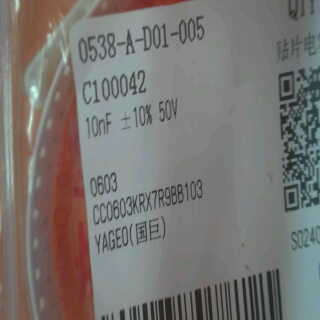10nF: (81, 109, 114, 143)
